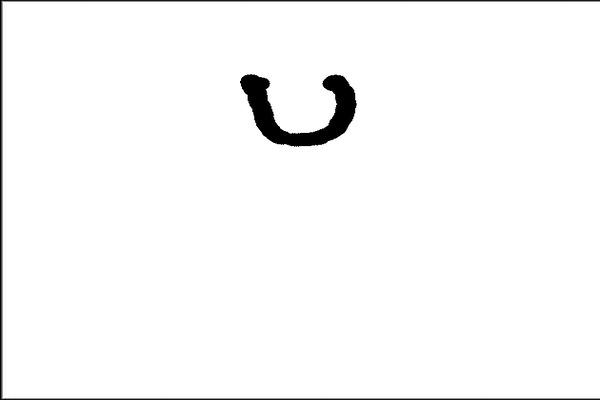U: (231, 58, 362, 147)
